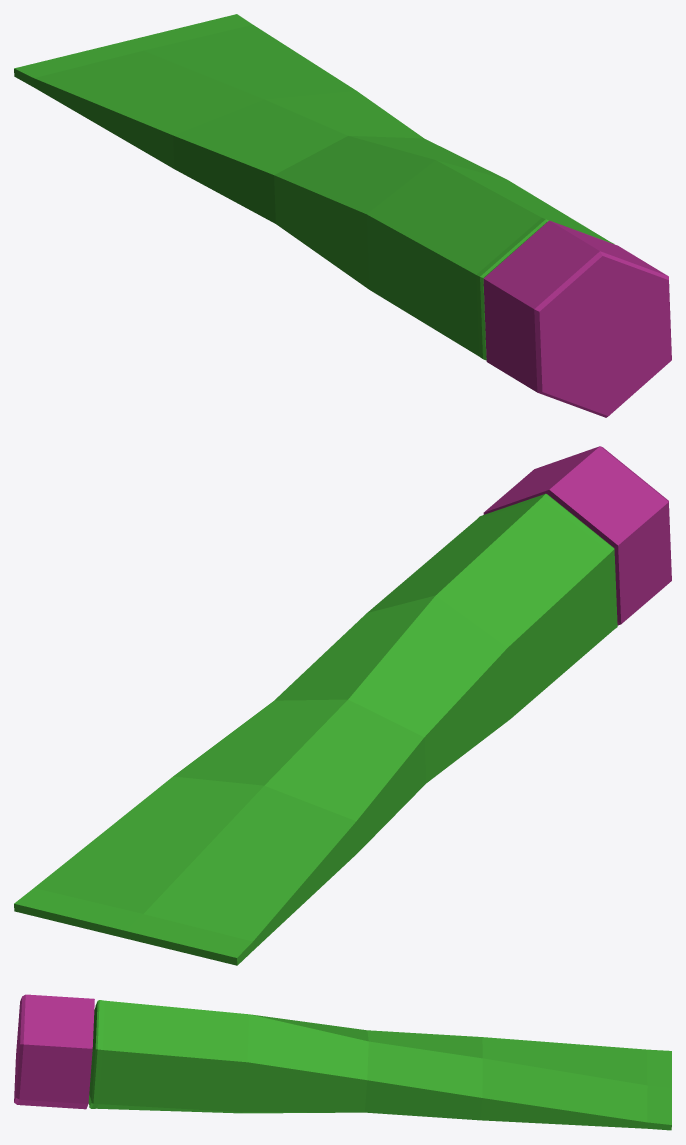
File: Thin.fbx
The picture shows the model from 3 angles, top to bottom: view 1: azimuth 30°, elevation 25°; view 2: azimuth 150°, elevation 25°; view 3: azimuth 270°, elevation 25°; orthographic projection. The views are drawn at different scales.
Visible parts, largest first — view 1: Tube_Thin; view 2: Tube_Thin; view 3: Tube_Thin.
Part boxes in pixels (x1,y1,x2,y2): Tube_Thin: (14, 14, 671, 417); Tube_Thin: (14, 446, 671, 965); Tube_Thin: (14, 994, 671, 1130).
Bounding box in the file's own units: 0.0679 × 0.2547 × 0.0508.
